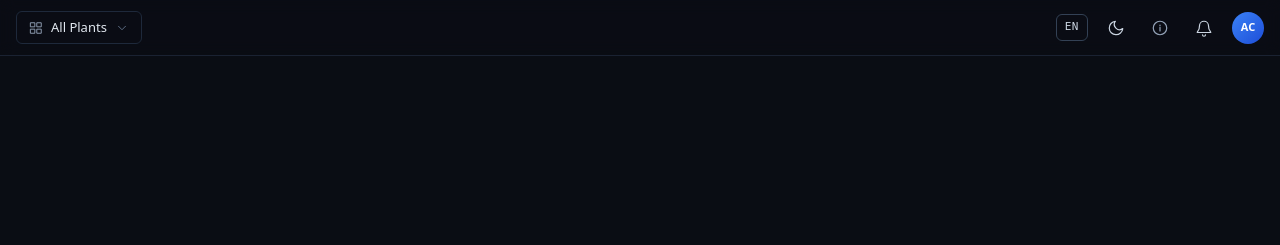
Scenario: TopBar › opens facility dropdown on click
The width and height of the screenshot is (1280, 245).
Click the button "All Plants" at point(79, 28), box [16,11,142,44]
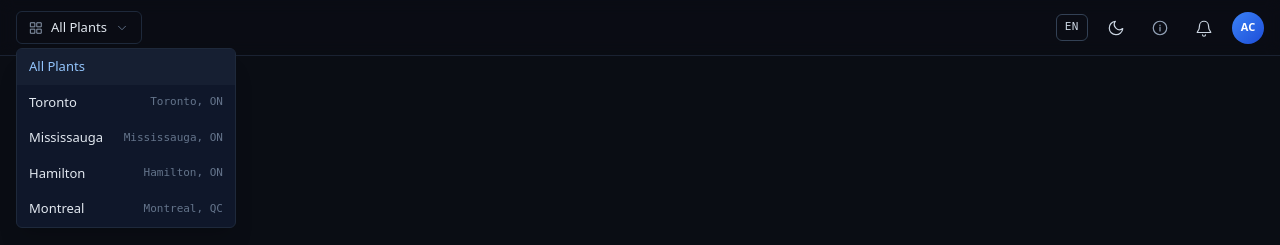
Now the text "Toronto" is shown, box [29,93,77,111]
